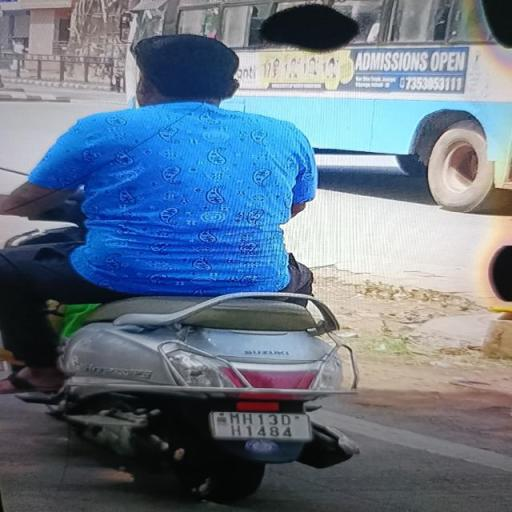bike: (4, 30, 362, 508)
numberplate: (212, 408, 312, 442)
withouthelmet: (136, 37, 234, 103)
